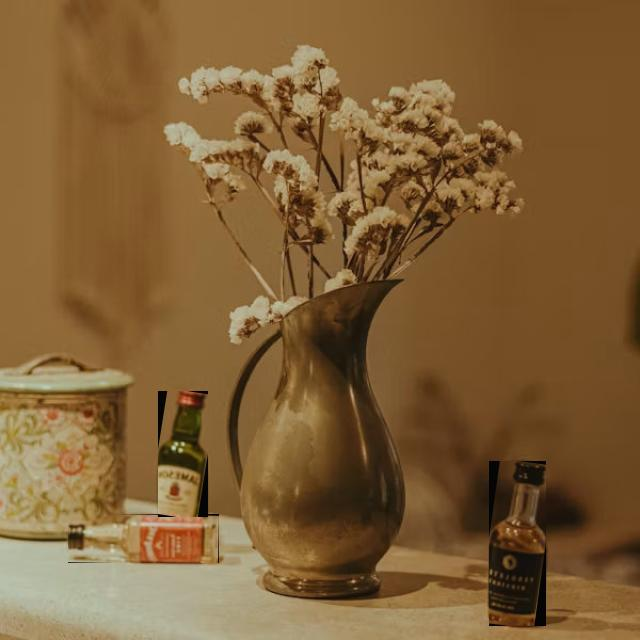Bottle: (488, 461, 545, 626), (68, 515, 217, 563), (157, 392, 207, 517)
